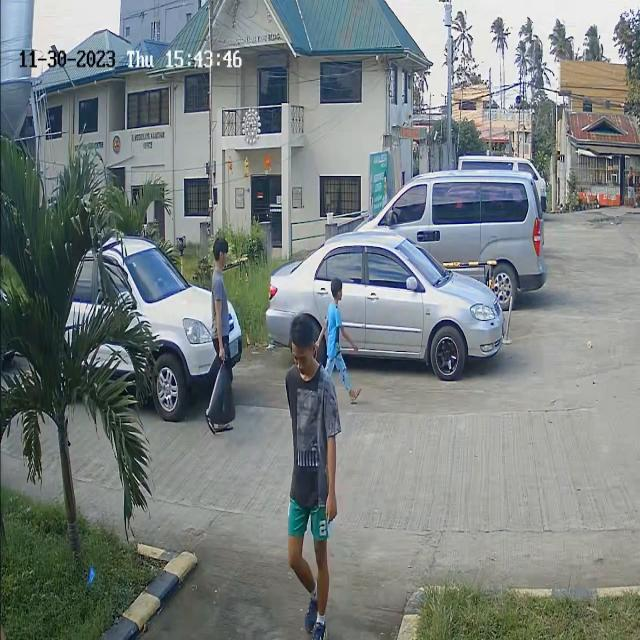garbage: (202, 359, 244, 429)
person: (283, 314, 333, 480), (208, 233, 235, 349), (322, 270, 349, 351)
